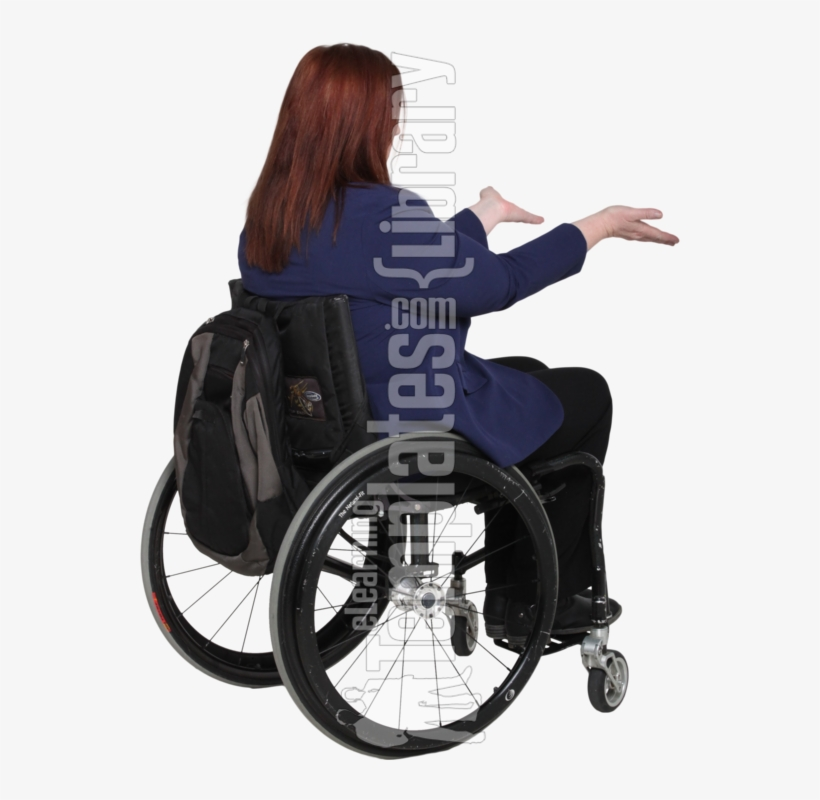wheelchair: (136, 40, 679, 759)
